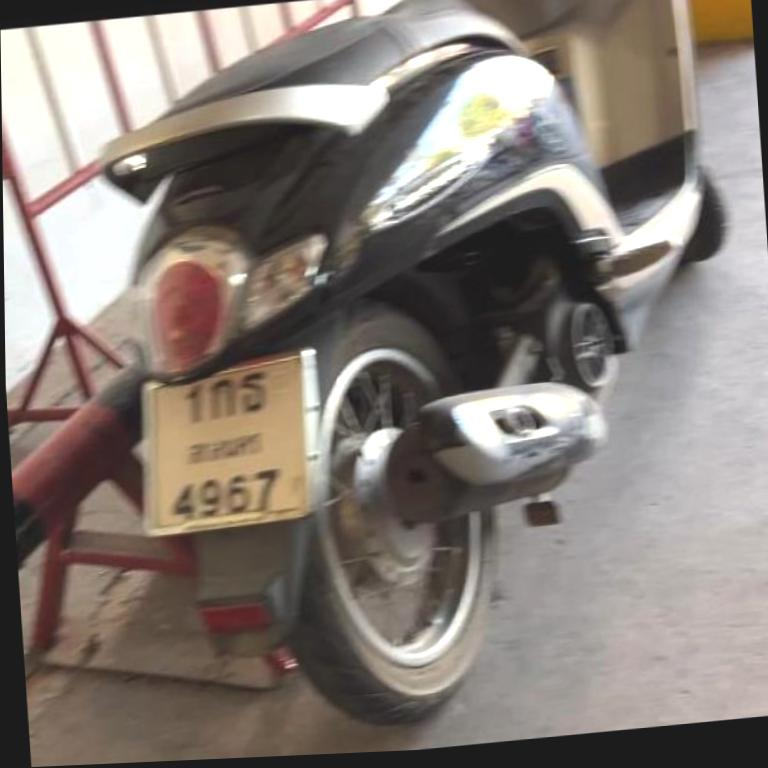license plate: (141, 348, 318, 535)
